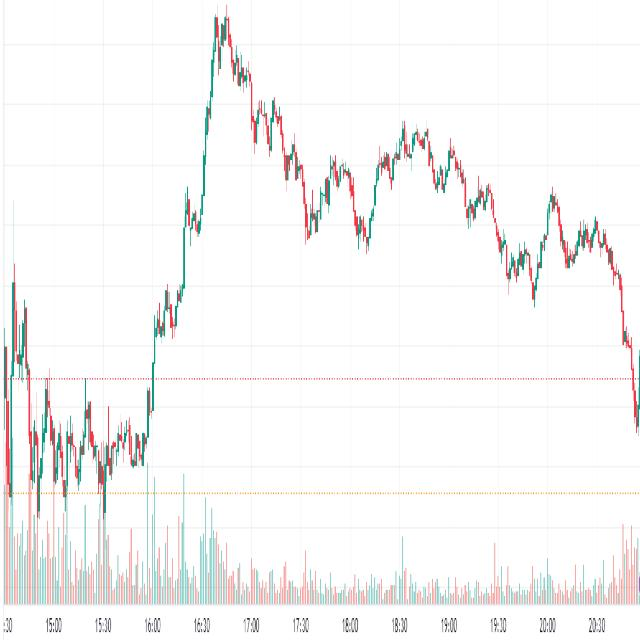Descending-Triangle: (179, 0, 633, 282), (3, 215, 143, 515)
Double-Bottom: (350, 197, 378, 260)
Head-Shoulders: (176, 7, 311, 269)
